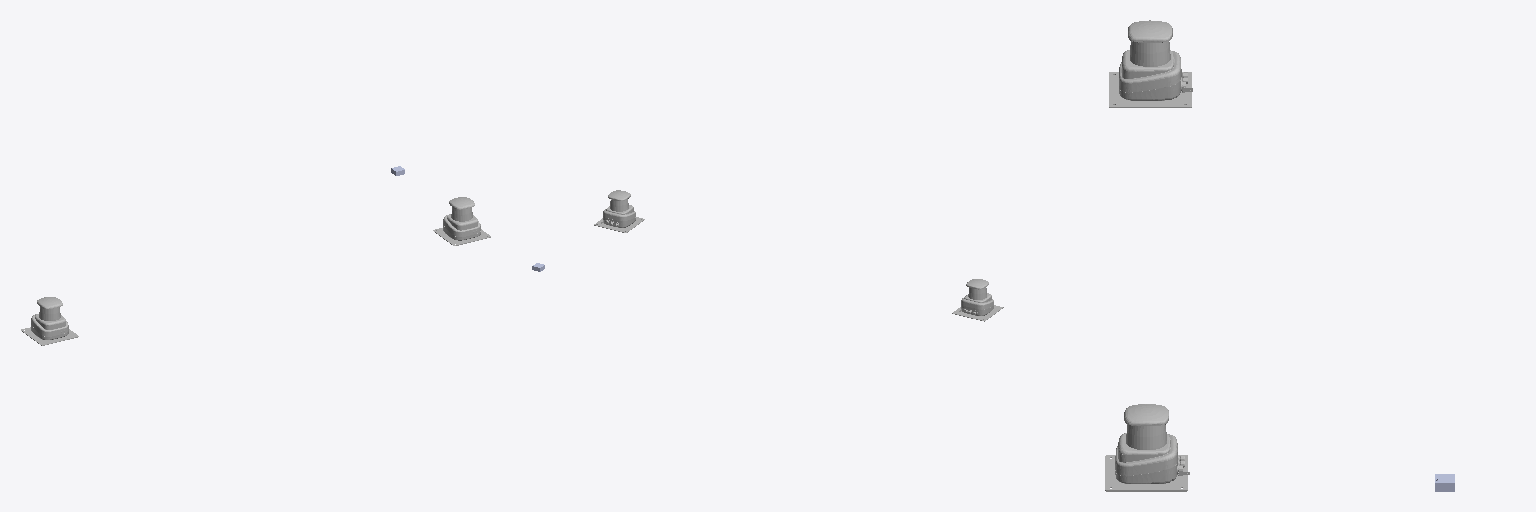
The robot description file, URDF, robot "dal_amr_urdf":
<?xml version="1.0" encoding="utf-8"?>
<!-- This URDF was automatically created by SolidWorks to URDF Exporter! Originally created by [author] ([email redacted]) 
     Commit Version: 1.6.0-4-g7f85cfe  Build Version: 1.6.7995.38578
     For more information, please see http://wiki.ros.org/sw_urdf_exporter -->
<robot
  name="dal_amr_urdf">
  <link
    name="base_link">
    <inertial>
      <origin
        xyz="0.026158529495913 0.0207599841560281 0.36512380687685"
        rpy="0 0 0" />
      <mass
        value="1106.05430410529" />
      <inertia
        ixx="30.066170253479"
        ixy="-0.0415848053290867"
        ixz="-0.53238832239181"
        iyy="28.7861915042776"
        iyz="0.0642936150198035"
        izz="48.0522582435528" />
    </inertial>
    <visual>
      <origin
        xyz="0 0 0"
        rpy="0 0 0" />
      <geometry>
        <mesh
          filename="package://dal_amr_urdf/meshes/base_link.STL" />
      </geometry>
      <material
        name="">
        <color
          rgba="0.752941176470588 0.752941176470588 0.752941176470588 1" />
      </material>
    </visual>
    <collision>
      <origin
        xyz="0 0 0"
        rpy="0 0 0" />
      <geometry>
        <mesh
          filename="package://dal_amr_urdf/meshes/base_link.STL" />
      </geometry>
    </collision>
  </link>
  <link
    name="R-R_wheel_link">
    <inertial>
      <origin
        xyz="0.000837352246583434 0.074999972132261 -2.07541284915902E-05"
        rpy="0 0 0" />
      <mass
        value="10.8599966783425" />
      <inertia
        ixx="0.0459453194105362"
        ixy="1.37623721804584E-08"
        ixz="2.05677068797081E-06"
        iyy="0.0755405084811452"
        iyz="-2.97402658556605E-08"
        izz="0.0459505234666675" />
    </inertial>
    <visual>
      <origin
        xyz="0 0 0"
        rpy="0 0 0" />
      <geometry>
        <mesh
          filename="package://dal_amr_urdf/meshes/R-R_wheel_link.STL" />
      </geometry>
      <material
        name="">
        <color
          rgba="0.752941176470588 0.752941176470588 0.752941176470588 1" />
      </material>
    </visual>
    <collision>
      <origin
        xyz="0 0 0"
        rpy="0 0 0" />
      <geometry>
        <mesh
          filename="package://dal_amr_urdf/meshes/R-R_wheel_link.STL" />
      </geometry>
    </collision>
  </link>
  <joint
    name="R-R_wheel_joint"
    type="continuous">
    <origin
      xyz="-0.600845484796538 -1.00098987276654 0.187510000000006"
      rpy="0 0 0" />
    <parent
      link="base_link" />
    <child
      link="R-R_wheel_link" />
    <axis
      xyz="0 1 0" />
  </joint>
  <link
    name="R-F_wheel_link">
    <inertial>
      <origin
        xyz="0.000861331215951111 0.0750000221750111 -1.5873312427403E-05"
        rpy="0 0 0" />
      <mass
        value="10.8599965368607" />
      <inertia
        ixx="0.0459476780656675"
        ixy="-1.23349354785893E-08"
        ixz="-3.27048841674833E-06"
        iyy="0.0755405083455259"
        iyz="3.20025319339976E-08"
        izz="0.0459481647632598" />
    </inertial>
    <visual>
      <origin
        xyz="0 0 0"
        rpy="0 0 0" />
      <geometry>
        <mesh
          filename="package://dal_amr_urdf/meshes/R-F_wheel_link.STL" />
      </geometry>
      <material
        name="">
        <color
          rgba="0.752941176470588 0.752941176470588 0.752941176470588 1" />
      </material>
    </visual>
    <collision>
      <origin
        xyz="0 0 0"
        rpy="0 0 0" />
      <geometry>
        <mesh
          filename="package://dal_amr_urdf/meshes/R-F_wheel_link.STL" />
      </geometry>
    </collision>
  </link>
  <joint
    name="R-F_wheel_joint"
    type="continuous">
    <origin
      xyz="0.599154515203462 -1.00098987276653 0.187510000000006"
      rpy="0 0 0" />
    <parent
      link="base_link" />
    <child
      link="R-F_wheel_link" />
    <axis
      xyz="0 1 0" />
  </joint>
  <link
    name="L-R_wheel_link">
    <inertial>
      <origin
        xyz="-0.00082536642825537 -0.0749999727162014 9.5729200058764E-06"
        rpy="0 0 0" />
      <mass
        value="10.8599965274659" />
      <inertia
        ixx="0.0459502044190201"
        ixy="-3.21465114315835E-08"
        ixz="2.40441780102791E-06"
        iyy="0.0755405081550335"
        iyz="1.21842543537861E-08"
        izz="0.0459456382133597" />
    </inertial>
    <visual>
      <origin
        xyz="0 0 0"
        rpy="0 0 0" />
      <geometry>
        <mesh
          filename="package://dal_amr_urdf/meshes/L-R_wheel_link.STL" />
      </geometry>
      <material
        name="">
        <color
          rgba="0.752941176470588 0.752941176470588 0.752941176470588 1" />
      </material>
    </visual>
    <collision>
      <origin
        xyz="0 0 0"
        rpy="0 0 0" />
      <geometry>
        <mesh
          filename="package://dal_amr_urdf/meshes/L-R_wheel_link.STL" />
      </geometry>
    </collision>
  </link>
  <joint
    name="L-R_wheel_joint"
    type="continuous">
    <origin
      xyz="-0.599154515203465 1.00101012723346 0.187510000000002"
      rpy="0 0 0" />
    <parent
      link="base_link" />
    <child
      link="L-R_wheel_link" />
    <axis
      xyz="0 1 0" />
  </joint>
  <link
    name="L-F_wheel_link">
    <inertial>
      <origin
        xyz="-0.00082963837710226 -0.0749999778249339 -1.58733125112387E-05"
        rpy="0 0 0" />
      <mass
        value="10.8599965368607" />
      <inertia
        ixx="0.0459476780656694"
        ixy="-1.23349355069905E-08"
        ixz="-3.27048841586989E-06"
        iyy="0.0755405083455284"
        iyz="3.20025306281114E-08"
        izz="0.0459481647632624" />
    </inertial>
    <visual>
      <origin
        xyz="0 0 0"
        rpy="0 0 0" />
      <geometry>
        <mesh
          filename="package://dal_amr_urdf/meshes/L-F_wheel_link.STL" />
      </geometry>
      <material
        name="">
        <color
          rgba="0.752941176470588 0.752941176470588 0.752941176470588 1" />
      </material>
    </visual>
    <collision>
      <origin
        xyz="0 0 0"
        rpy="0 0 0" />
      <geometry>
        <mesh
          filename="package://dal_amr_urdf/meshes/L-F_wheel_link.STL" />
      </geometry>
    </collision>
  </link>
  <joint
    name="L-F_wheel_joint"
    type="continuous">
    <origin
      xyz="0.600845484796534 1.00101012723347 0.187510000000002"
      rpy="0 0 0" />
    <parent
      link="base_link" />
    <child
      link="L-F_wheel_link" />
    <axis
      xyz="0 1 0" />
  </joint>
  <link
    name="laser_link">
    <inertial>
      <origin
        xyz="7.54806509695172E-06 0.000904387104686655 -0.0378632905447961"
        rpy="0 0 0" />
      <mass
        value="0.78633137266118" />
      <inertia
        ixx="0.00127802962224363"
        ixy="-2.72188723631281E-07"
        ixz="1.91076054946288E-07"
        iyy="0.0012469905533279"
        iyz="5.36961290094026E-06"
        izz="0.00109111857909315" />
    </inertial>
    <visual>
      <origin
        xyz="0 0 0"
        rpy="0 0 0" />
      <geometry>
        <mesh
          filename="package://dal_amr_urdf/meshes/laser_link.STL" />
      </geometry>
      <material
        name="">
        <color
          rgba="0.752941176470588 0.752941176470588 0.752941176470588 1" />
      </material>
    </visual>
    <collision>
      <origin
        xyz="0 0 0"
        rpy="0 0 0" />
      <geometry>
        <mesh
          filename="package://dal_amr_urdf/meshes/laser_link.STL" />
      </geometry>
    </collision>
  </link>
  <joint
    name="laser_joint"
    type="fixed">
    <origin
      xyz="0.76499999485128 -0.739989872766514 0.567510000000008"
      rpy="0 0 0" />
    <parent
      link="base_link" />
    <child
      link="laser_link" />
    <axis
      xyz="0 0 0" />
  </joint>
  <link
    name="laser_link2">
    <inertial>
      <origin
        xyz="7.54806509717376E-06 0.000904387104687543 -0.0378632905447973"
        rpy="0 0 0" />
      <mass
        value="0.786331372661181" />
      <inertia
        ixx="0.00127802962224362"
        ixy="-2.72188723626779E-07"
        ixz="1.91076054942276E-07"
        iyy="0.00124699055332788"
        iyz="5.36961290093201E-06"
        izz="0.00109111857909317" />
    </inertial>
    <visual>
      <origin
        xyz="0 0 0"
        rpy="0 0 0" />
      <geometry>
        <mesh
          filename="package://dal_amr_urdf/meshes/laser_link2.STL" />
      </geometry>
      <material
        name="">
        <color
          rgba="0.752941176470588 0.752941176470588 0.752941176470588 1" />
      </material>
    </visual>
    <collision>
      <origin
        xyz="0 0 0"
        rpy="0 0 0" />
      <geometry>
        <mesh
          filename="package://dal_amr_urdf/meshes/laser_link2.STL" />
      </geometry>
    </collision>
  </link>
  <joint
    name="laser_joint2"
    type="fixed">
    <origin
      xyz="-0.765000005148736 -0.733989872766535 0.567509999999994"
      rpy="0 0 0" />
    <parent
      link="base_link" />
    <child
      link="laser_link2" />
    <axis
      xyz="0 0 0" />
  </joint>
  <link
    name="imu_link">
    <inertial>
      <origin
        xyz="-1.38745353872594E-07 3.73954120880815E-05 0.0079823347361489"
        rpy="0 0 0" />
      <mass
        value="0.0184458621702855" />
      <inertia
        ixx="2.16462683910551E-06"
        ixy="-7.3516918069248E-11"
        ixz="1.64418721935127E-11"
        iyy="2.17243034491282E-06"
        iyz="-4.4954171391151E-09"
        izz="3.55221693439667E-06" />
    </inertial>
    <visual>
      <origin
        xyz="0 0 0"
        rpy="0 0 0" />
      <geometry>
        <mesh
          filename="package://dal_amr_urdf/meshes/imu_link.STL" />
      </geometry>
      <material
        name="">
        <color
          rgba="0.792156862745098 0.819607843137255 0.933333333333333 1" />
      </material>
    </visual>
    <collision>
      <origin
        xyz="0 0 0"
        rpy="0 0 0" />
      <geometry>
        <mesh
          filename="package://dal_amr_urdf/meshes/imu_link.STL" />
      </geometry>
    </collision>
  </link>
  <joint
    name="imu_joint"
    type="fixed">
    <origin
      xyz="0.818000000000031 -0.236989872766201 0.485510000000965"
      rpy="0 0 0" />
    <parent
      link="base_link" />
    <child
      link="imu_link" />
    <axis
      xyz="0 0 0" />
  </joint>
</robot>

--- Render facts (derived) ---
The picture shows the robot from 3 angles, left to right: view 1: azimuth 30°, elevation 25°; view 2: azimuth 150°, elevation 25°; view 3: azimuth 270°, elevation 25°; orthographic projection.
Model dal_amr_urdf with 8 links and 7 joints (4 continuous, 3 fixed), rooted at base_link, posed every joint at zero.
Visible links, largest first — view 1: laser_link, laser_link2; view 2: laser_link, laser_link2; view 3: laser_link, laser_link2.
Link boxes in pixels (<box>): laser_link: <box>433,197,490,245</box>; laser_link2: <box>21,297,78,345</box>; laser_link: <box>594,190,644,232</box>; laser_link2: <box>952,279,1003,321</box>; laser_link: <box>1105,404,1189,491</box>; laser_link2: <box>1109,20,1192,107</box>.
Size in the robot's own frame: 1.67 by 0.59 by 0.1185 metres.
3 mesh visuals loaded from 8 distinct referenced files (3 binary STL); not drawn: 5 (reference not matched to a file when rendering).